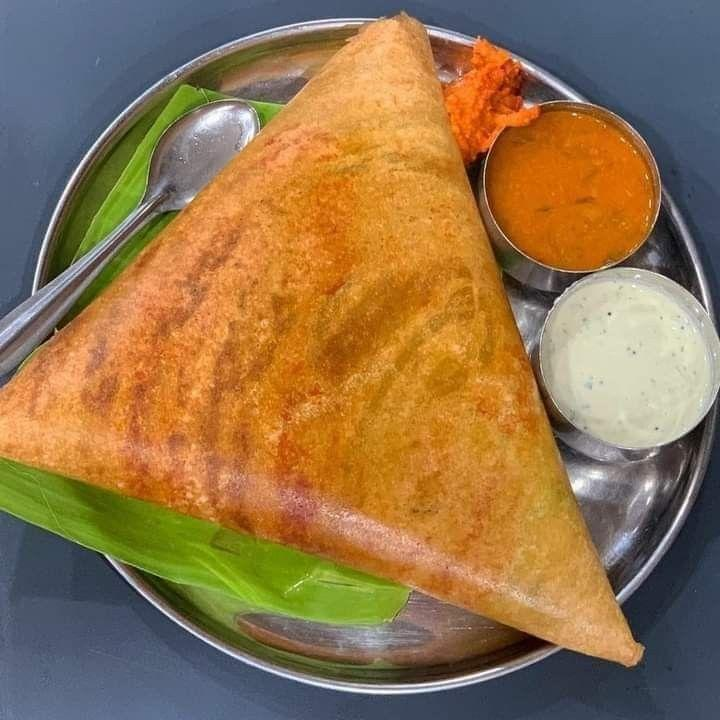dosa: (48, 41, 648, 701)
